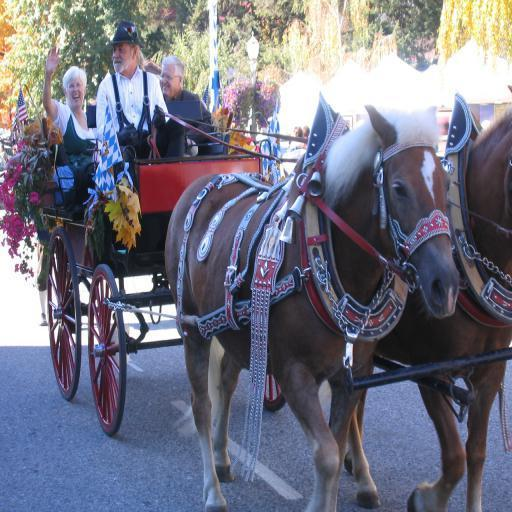horse: (162, 104, 460, 512), (296, 108, 512, 512)
